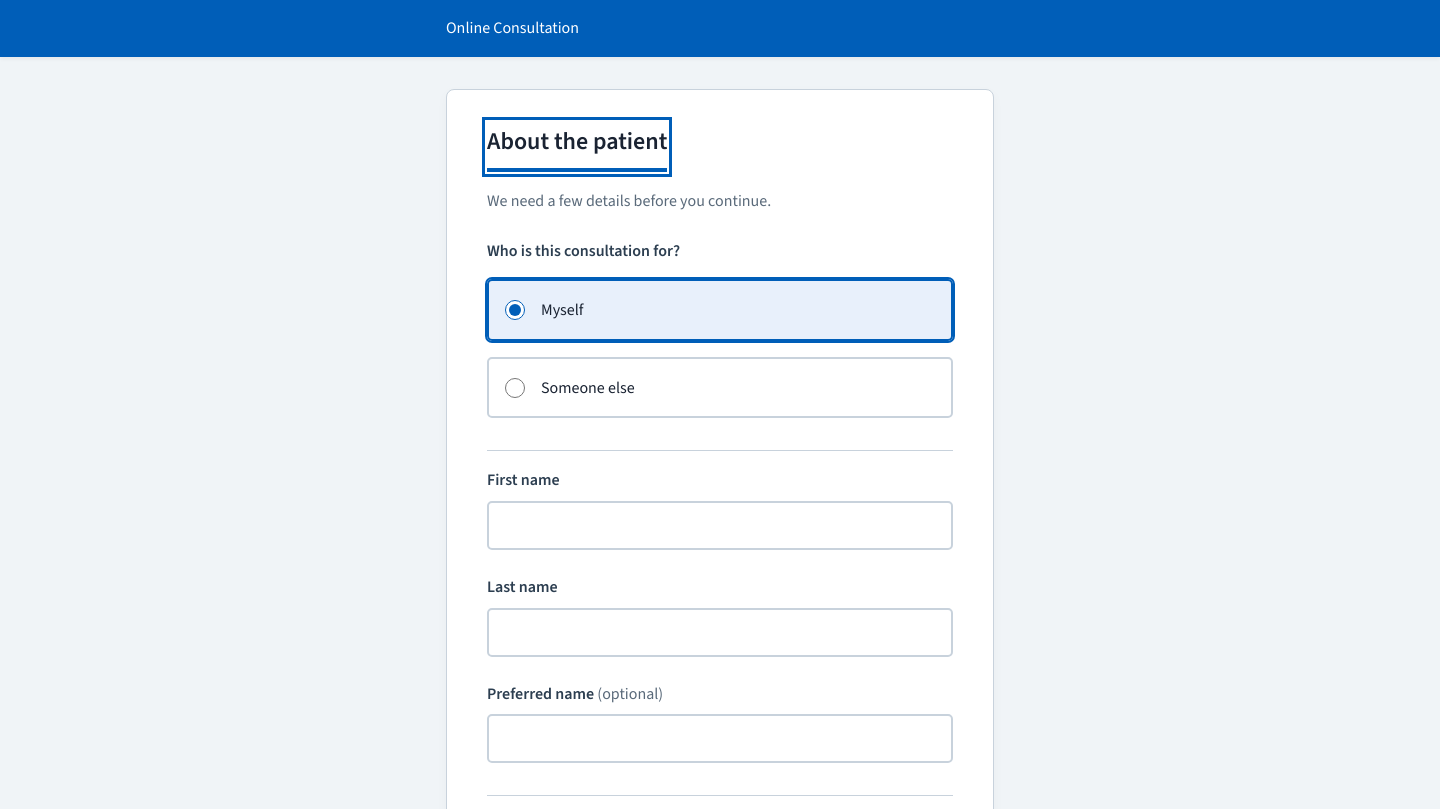
Test: PatientDetailsScreen › renders submitter fields when Someone else is selected
Click the radio button labelled "Someone else" at (515, 388), box [505,378,525,398]
(page scrolled)
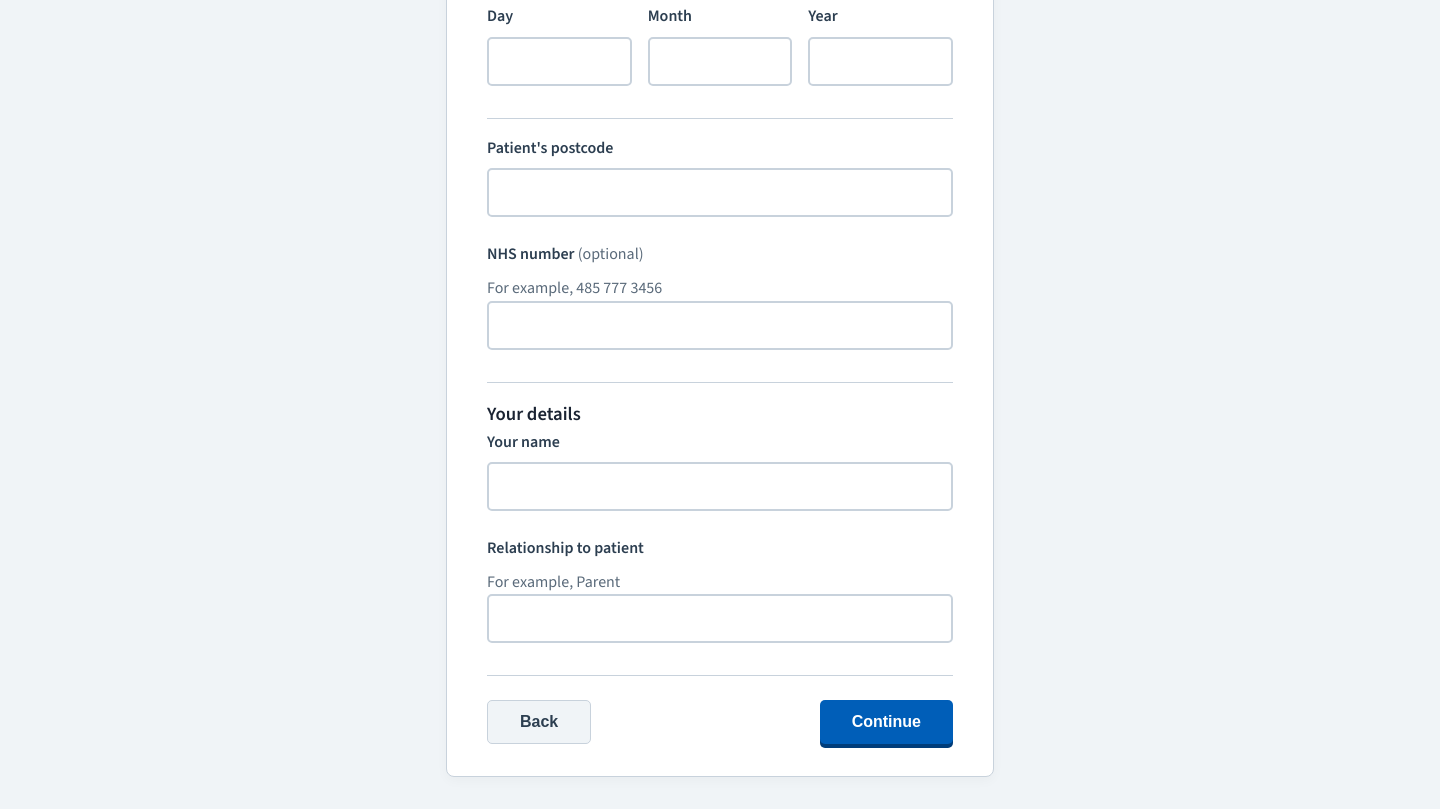
Check: the field labelled "Your name" is shown, box [487,462,953,511]
Check: the field labelled "Relationship to patient" is shown, box [487,594,953,643]
